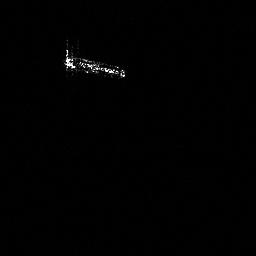ship: (63, 39, 128, 81)
